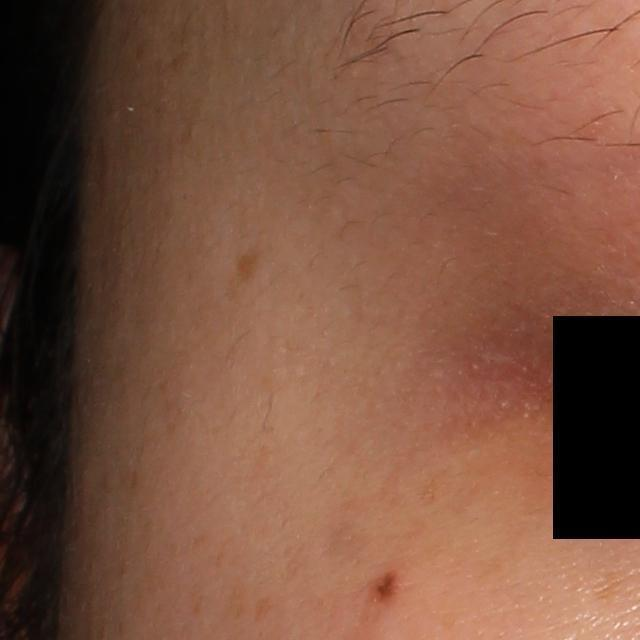melasma: (315, 520, 378, 574), (231, 249, 267, 287), (252, 592, 276, 626)
nevus: (370, 565, 403, 607)
